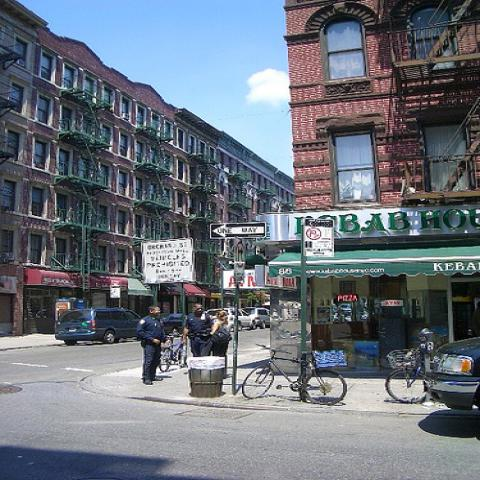car: (422, 336, 478, 411), (56, 306, 142, 342), (207, 308, 258, 332), (241, 308, 271, 328), (163, 314, 182, 326)
